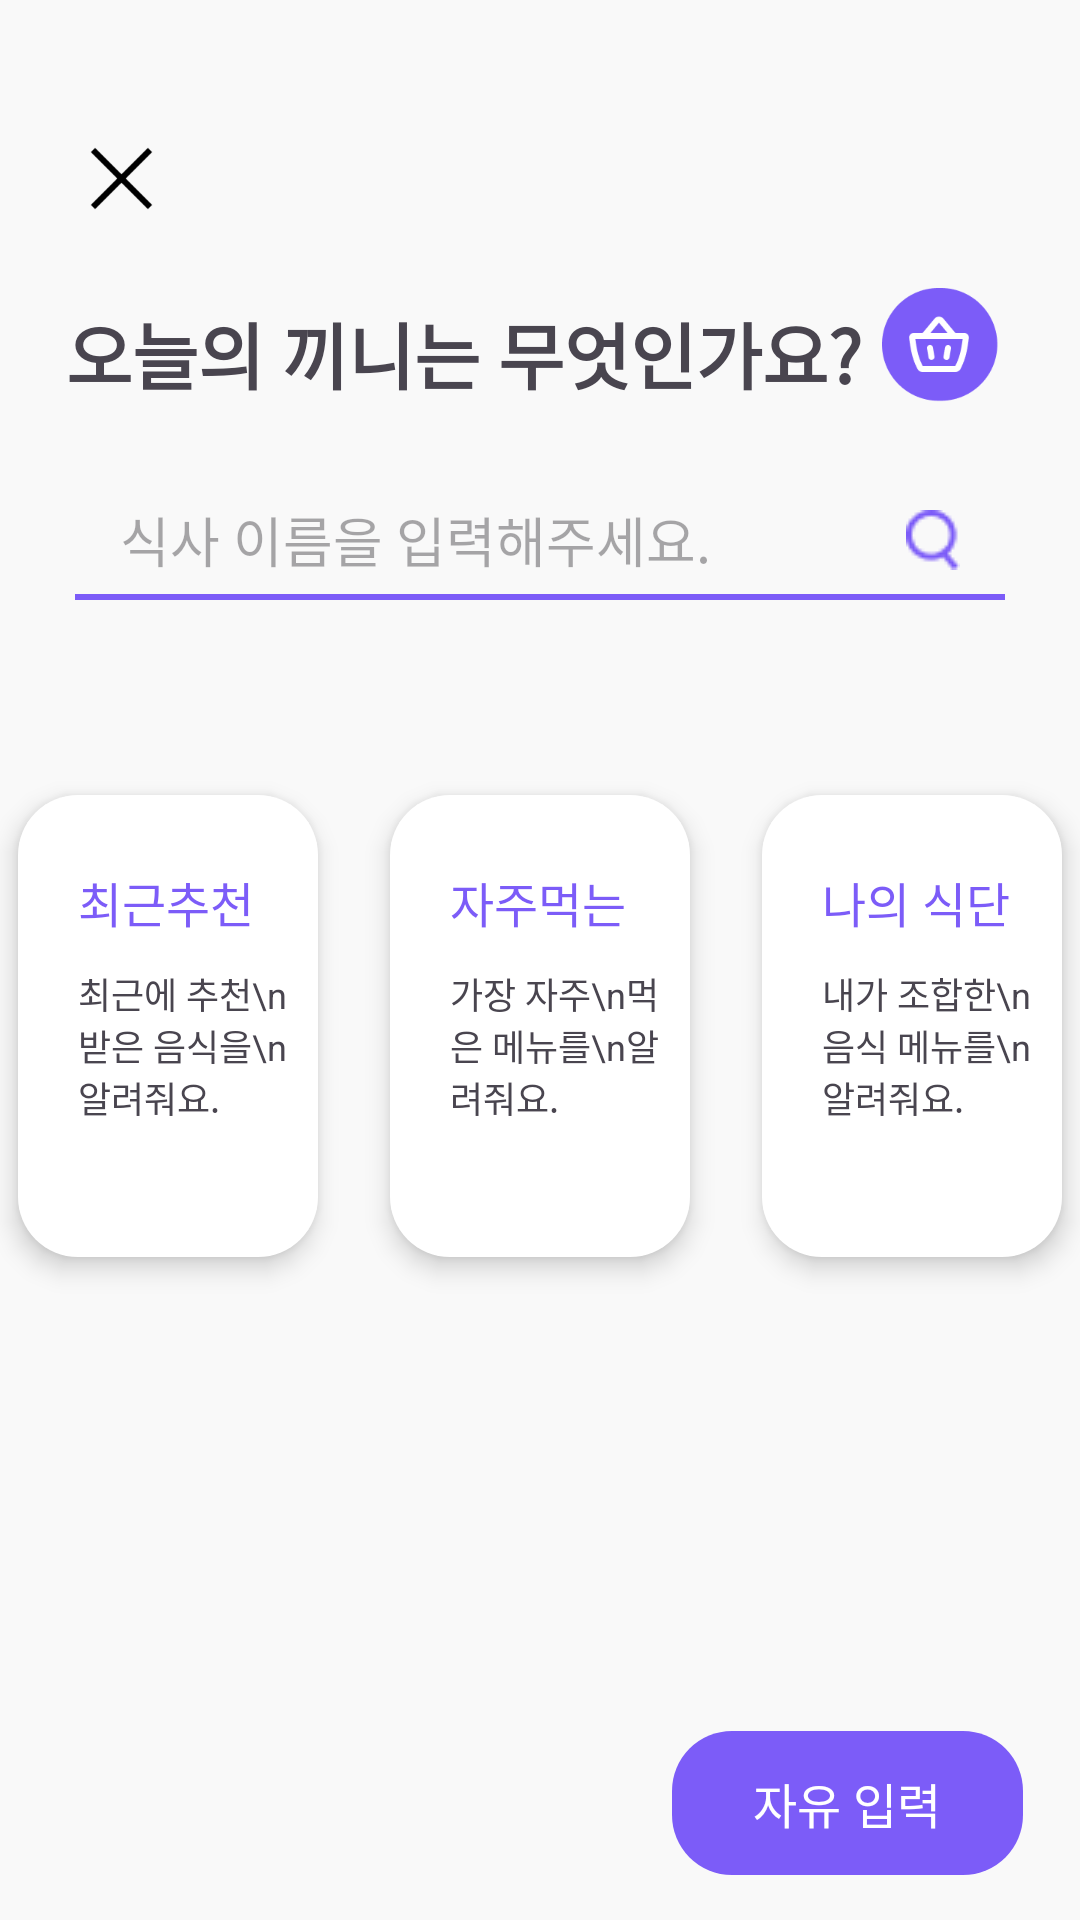

Where icons sit on this 1080x1920 app screen, as bbox(x1, y1, x2, y2):
cancel: bbox(91, 148, 152, 209)
market: bbox(882, 288, 998, 401)
